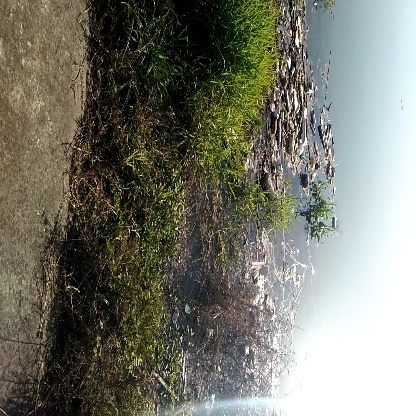grass: (223, 4, 275, 93)
